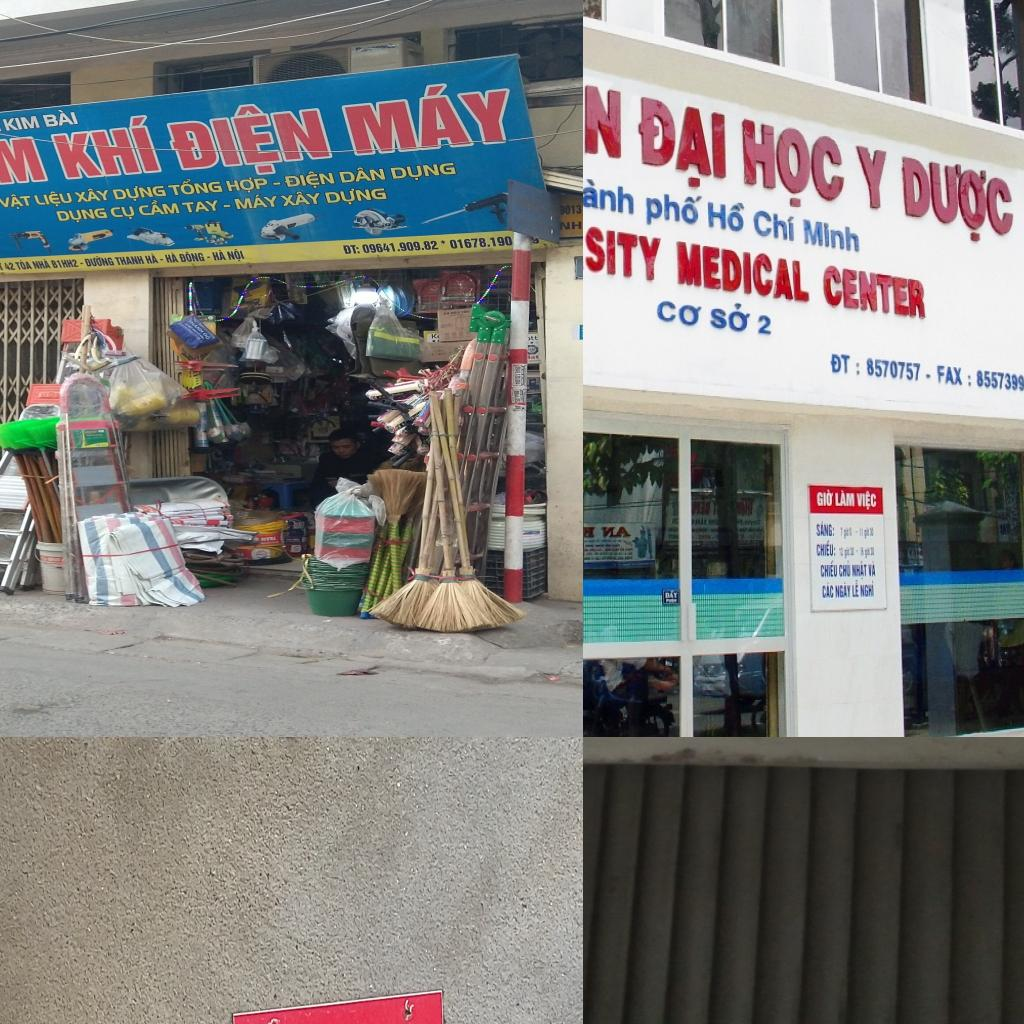text: (158, 96, 338, 181), (336, 73, 514, 158), (736, 104, 846, 218), (896, 150, 1020, 251), (632, 81, 730, 194), (674, 235, 814, 305), (47, 114, 164, 182), (820, 260, 930, 320), (583, 203, 663, 283), (583, 45, 627, 174), (799, 211, 865, 257), (852, 140, 892, 215), (642, 183, 704, 231), (583, 166, 638, 218), (0, 135, 50, 190), (751, 202, 802, 250), (703, 193, 749, 239), (864, 354, 923, 384), (709, 300, 753, 338), (388, 161, 460, 184), (656, 296, 704, 328), (322, 186, 391, 208), (973, 368, 1024, 395), (282, 168, 338, 192), (164, 176, 225, 197), (361, 239, 441, 255), (110, 183, 169, 204), (54, 206, 111, 226), (336, 164, 388, 184), (448, 235, 514, 250), (224, 175, 272, 195), (136, 198, 182, 218), (32, 188, 75, 209), (936, 362, 966, 392), (231, 193, 280, 211), (40, 107, 80, 128), (0, 114, 42, 132), (280, 190, 322, 208), (0, 191, 32, 212), (827, 351, 852, 377), (73, 186, 109, 204), (179, 199, 220, 214), (754, 312, 775, 338), (108, 204, 138, 222), (856, 490, 878, 512), (816, 537, 837, 559), (834, 488, 856, 508), (819, 559, 839, 580), (82, 255, 116, 267), (851, 560, 869, 582), (177, 250, 207, 263), (815, 488, 834, 508), (834, 580, 853, 600), (815, 520, 836, 538), (113, 255, 147, 266), (225, 247, 247, 263), (558, 202, 583, 216), (48, 259, 81, 269), (837, 559, 853, 579), (186, 319, 206, 334), (30, 258, 53, 270), (13, 259, 34, 271), (210, 248, 228, 262), (821, 582, 835, 600), (340, 244, 362, 255), (559, 220, 583, 230), (867, 559, 878, 579), (163, 252, 180, 264), (143, 253, 160, 264), (663, 589, 679, 600), (852, 578, 860, 599), (3, 261, 17, 272), (514, 366, 522, 384), (202, 331, 213, 341), (459, 309, 471, 315), (0, 258, 5, 272), (430, 332, 438, 340), (530, 354, 540, 360), (530, 335, 539, 341), (514, 404, 522, 410), (442, 310, 450, 316), (527, 348, 537, 352)
